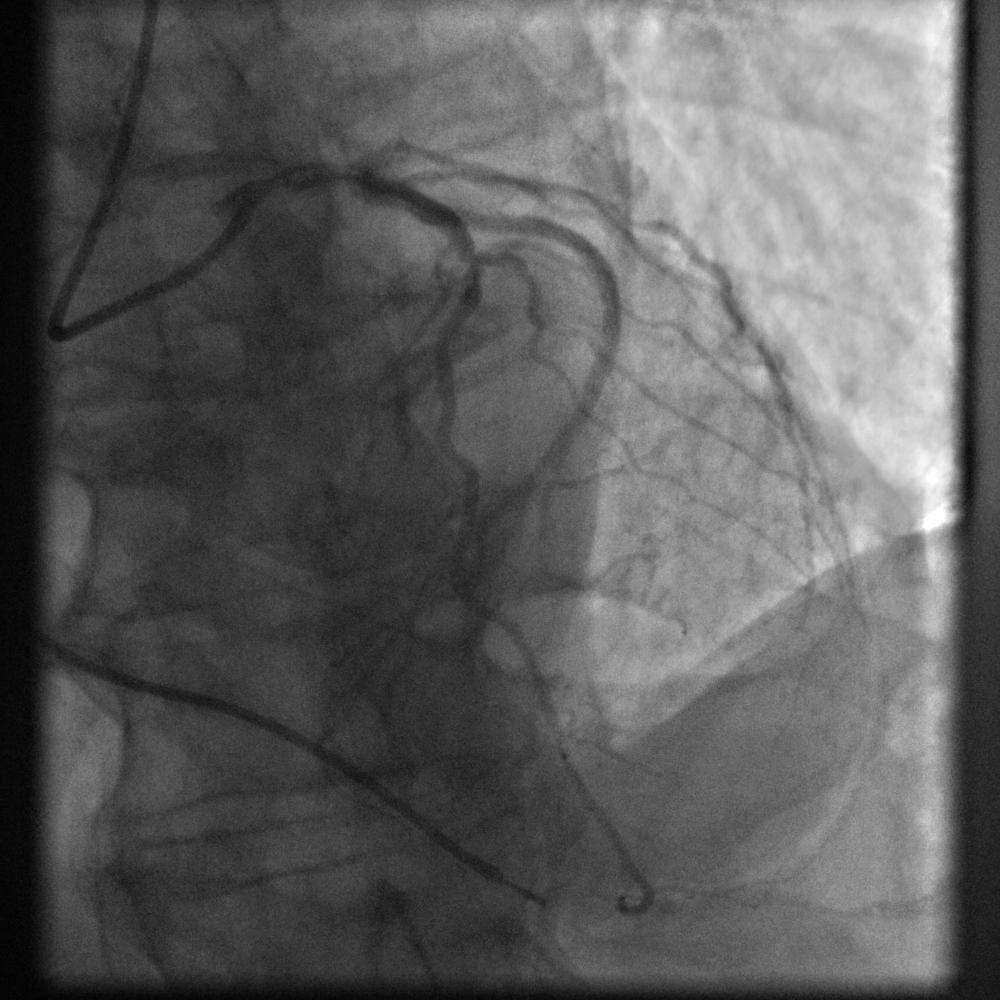Stenosis: (444, 227, 506, 288)
